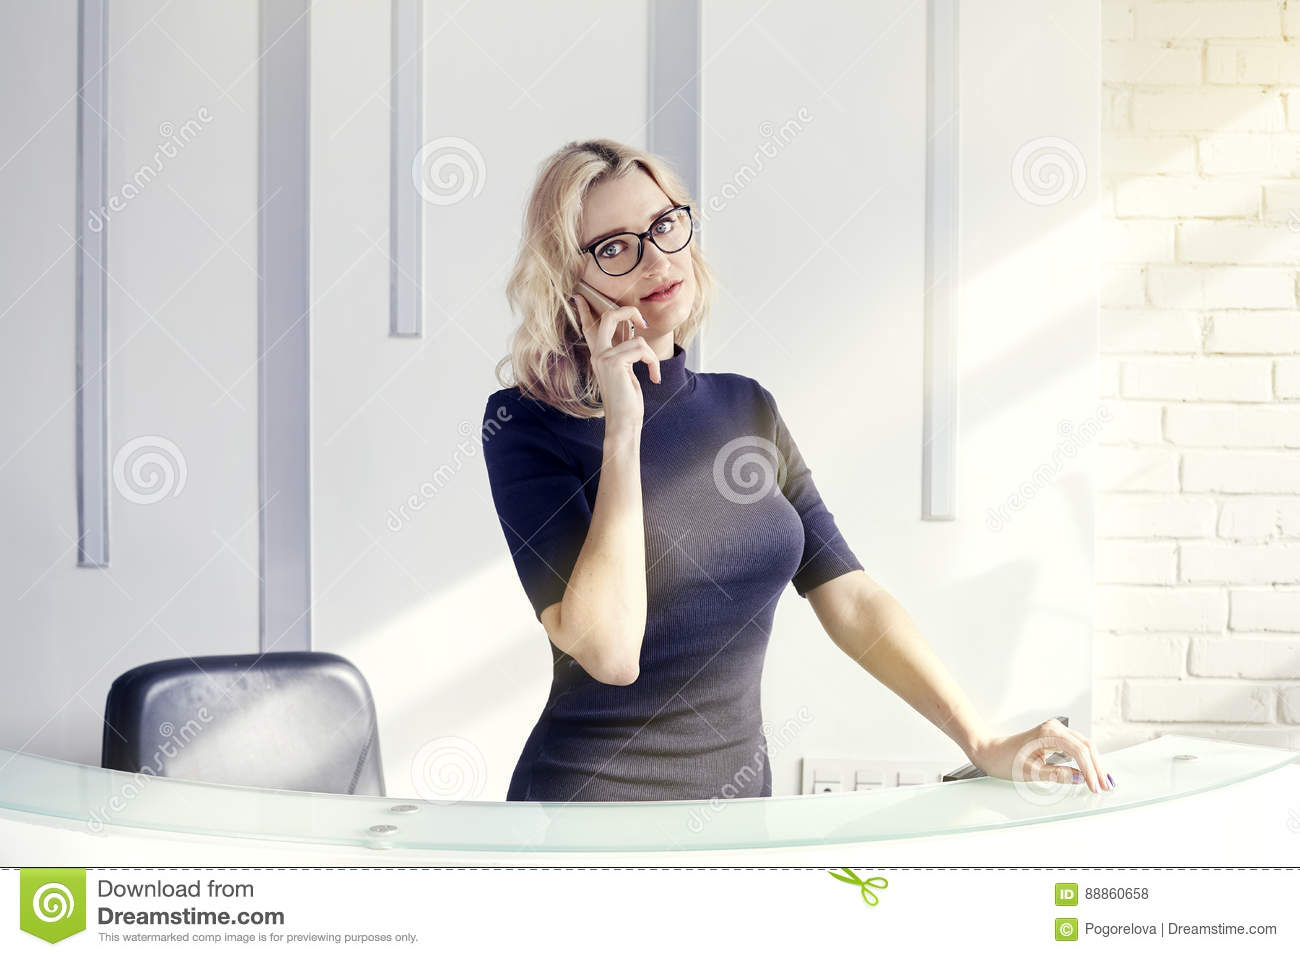talk: (570, 208, 695, 419)
